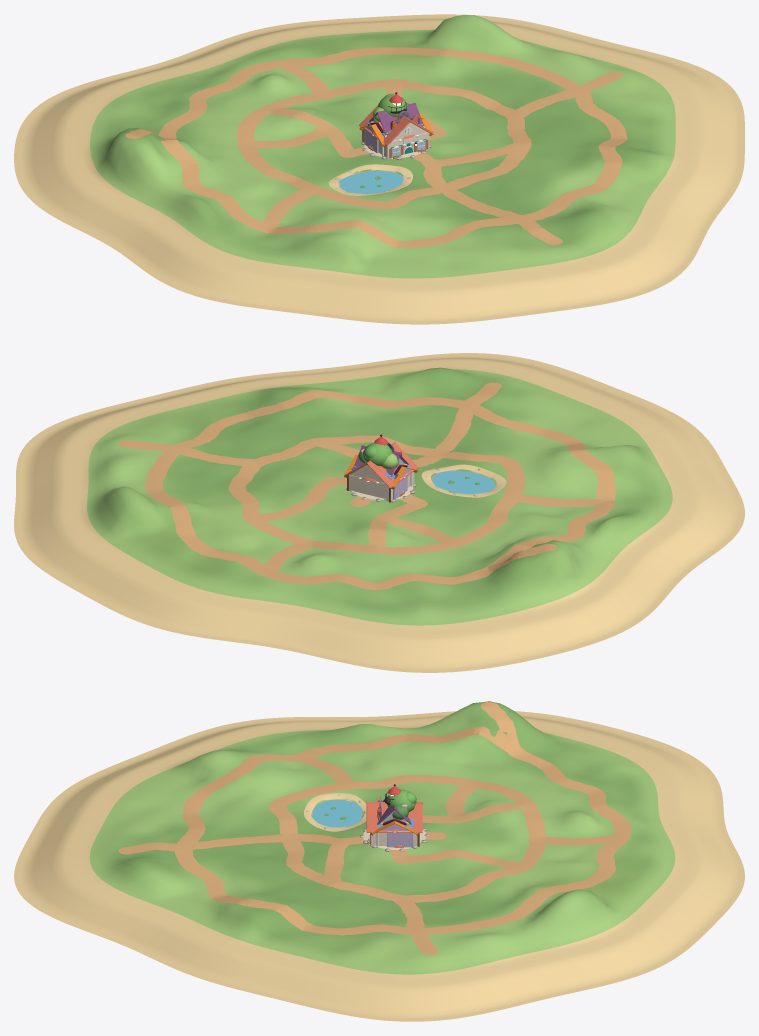
File: world_kit.glb
3 views of the same model, one above another, from view 1: azimuth 30°, elevation 25°; view 2: azimuth 150°, elevation 25°; view 3: azimuth 270°, elevation 25° (orthographic).
Parts seen in each view (by area): view 1: island, paths, cutaway, pond, shore, gallery_building; view 2: island, paths, pond, shore, cutaway, house_room, place_treehouse; view 3: island, paths, pond, cutaway, shore, gallery_building, place_treehouse.
Boxes of the visible parts, x1,y1,x2,y2 form: island: [14, 14, 744, 324]; paths: [125, 47, 627, 247]; cutaway: [359, 101, 433, 158]; pond: [339, 170, 403, 193]; shore: [328, 164, 412, 195]; gallery_building: [359, 112, 432, 156]; island: [14, 353, 744, 672]; paths: [118, 382, 615, 590]; pond: [432, 470, 495, 494]; shore: [421, 464, 506, 497]; cutaway: [344, 442, 418, 488]; house_room: [347, 472, 414, 502]; place_treehouse: [358, 443, 399, 469]; island: [14, 701, 744, 1021]; paths: [118, 702, 631, 955]; pond: [312, 799, 362, 827]; cutaway: [366, 798, 422, 846]; shore: [304, 793, 366, 831]; gallery_building: [371, 820, 418, 847]; place_treehouse: [386, 789, 416, 819].
Size of what is drawn, in the model's own units: 67.16 by 7.55 by 66.61.
